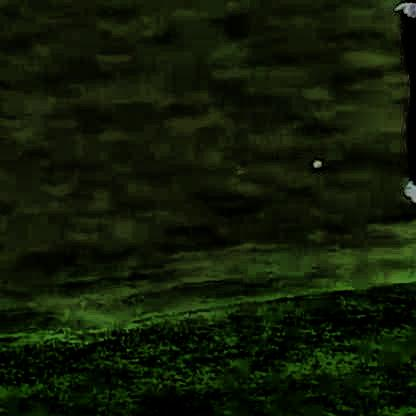golfball: (309, 154, 319, 165)
